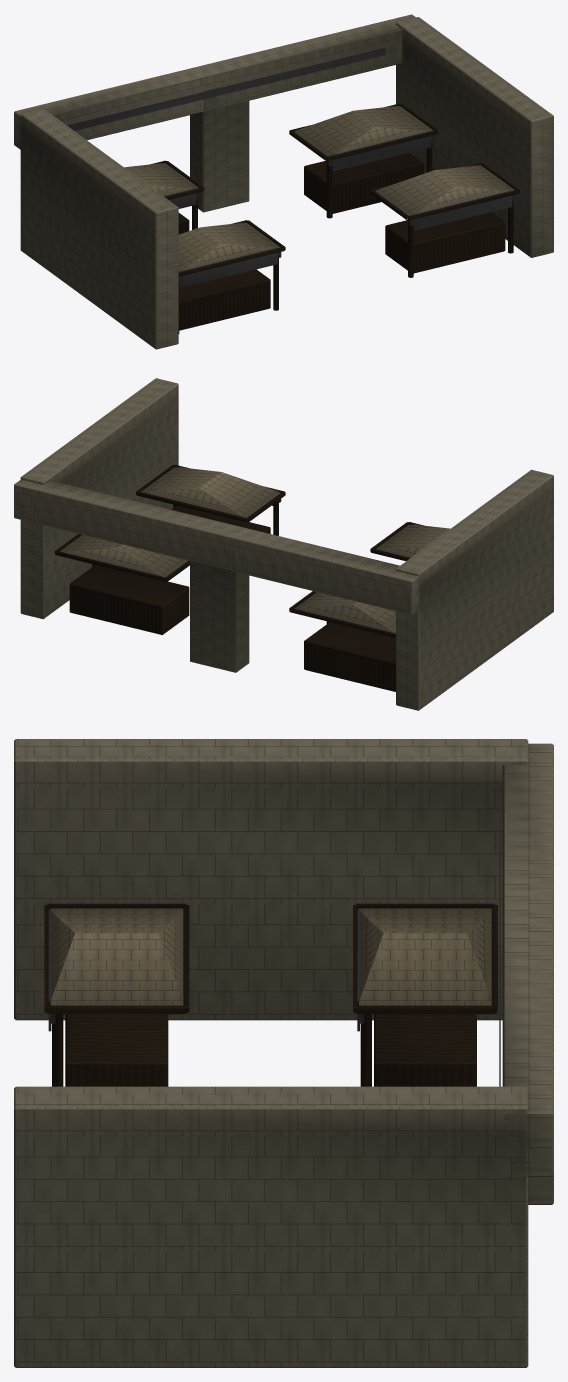
The model's file is market-israelite.glb.
3 views of the same model, one above another, from view 1: azimuth 30°, elevation 25°; view 2: azimuth 150°, elevation 25°; view 3: azimuth 270°, elevation 25° (orthographic). The views are drawn at different scales.
Visible parts, largest first — view 1: LOD0; view 2: LOD0; view 3: LOD0.
Boxes of the visible parts, x1,y1,x2,y2 form: LOD0: (14,14,553,349); LOD0: (14,378,553,710); LOD0: (14,739,553,1367).
Size of what is drawn, in the model's own units: 1.7 by 0.56 by 1.05.
Materials: 2 (2 with a texture image).
